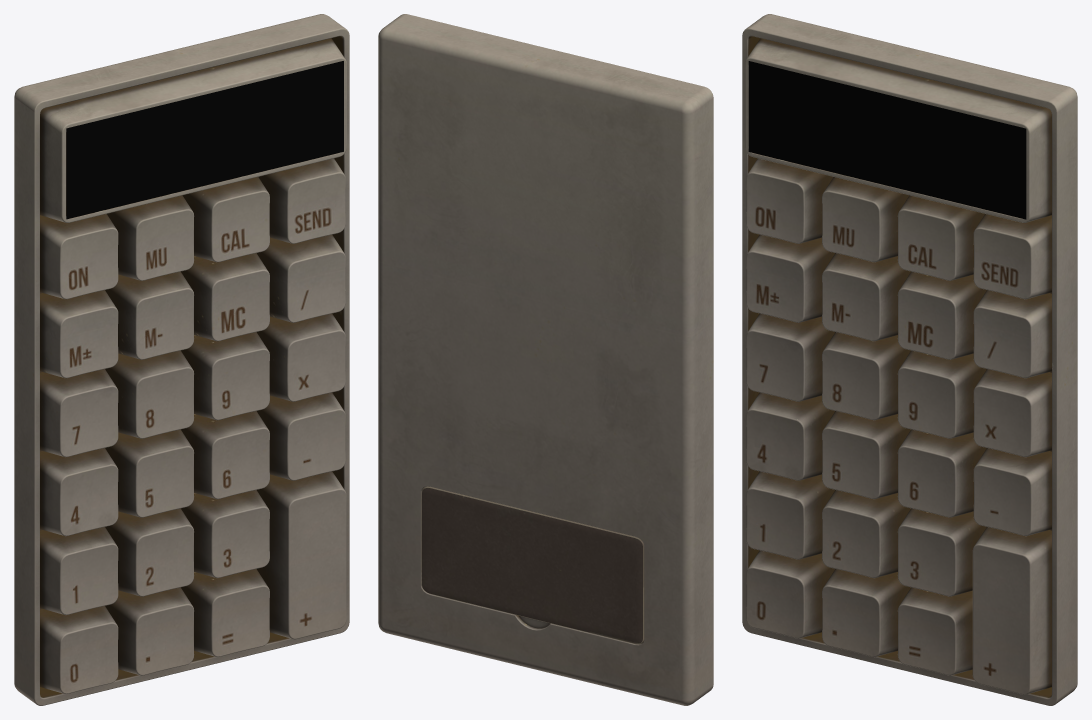
File: calculator.glb
3 renders of one model, left to right at view 1: azimuth 30°, elevation 25°; view 2: azimuth 150°, elevation 25°; view 3: azimuth 330°, elevation 25°, orthographic.
Parts seen in each view (by area): view 1: unused-numbers, main-block, display, +, screen-block, *, -, /, 1, 7, 4, 0 (+8 smaller); view 2: main-block, back-door; view 3: unused-numbers, main-block, display, +, screen-block, 7, 0, 4, 1, *, -, / (+8 smaller).
Boxes of the visible parts, box(x1,y1,x2,y2) form: unused-numbers: box(40, 158, 345, 595); main-block: box(14, 14, 349, 705); display: box(66, 61, 343, 219); +: box(257, 471, 346, 639); screen-block: box(40, 38, 346, 222); *: box(257, 313, 345, 401); -: box(257, 392, 345, 480); /: box(257, 234, 345, 322); 1: box(40, 527, 118, 615); 7: box(40, 369, 118, 457); 4: box(40, 448, 118, 536); 0: box(40, 606, 118, 693); main-block: box(378, 14, 713, 705); back-door: box(421, 486, 644, 644); unused-numbers: box(746, 158, 1051, 607); main-block: box(742, 14, 1077, 705); display: box(748, 61, 1026, 219); +: box(972, 527, 1051, 694); screen-block: box(745, 38, 1051, 222); 7: box(746, 313, 834, 401); 0: box(746, 550, 834, 638); 4: box(746, 392, 834, 480); 1: box(746, 471, 834, 559); *: box(973, 369, 1051, 457); -: box(973, 448, 1051, 536); /: box(973, 290, 1051, 378).
Size of the model in its own units: 1.06 by 1.94 by 0.2109.
Materials: 2 (1 with a texture image).
